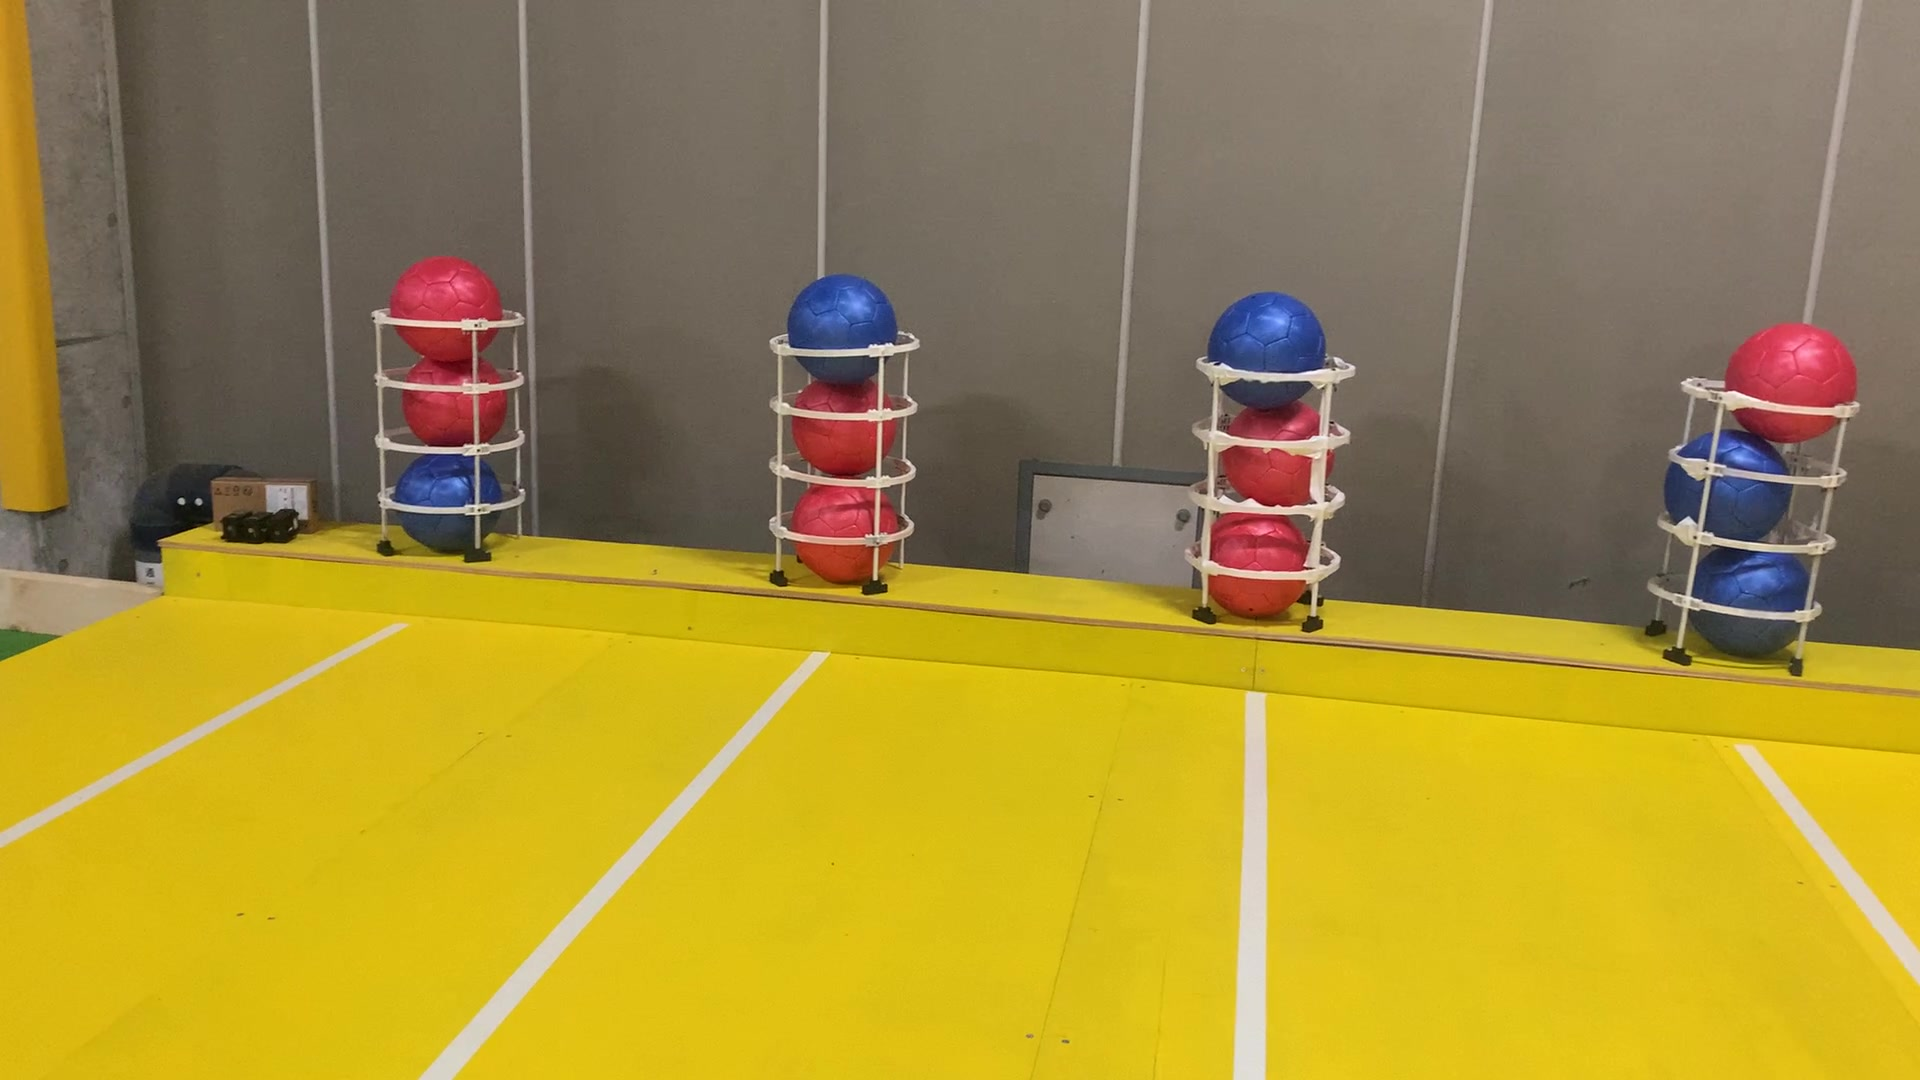blue: (1684, 537, 1817, 662), (1668, 421, 1792, 553), (1199, 289, 1331, 411), (778, 273, 906, 385), (389, 442, 508, 553)
red: (1726, 320, 1863, 446), (1221, 393, 1340, 517), (389, 248, 509, 367), (1199, 512, 1311, 630), (785, 477, 907, 580), (794, 371, 903, 484), (402, 355, 508, 459)
